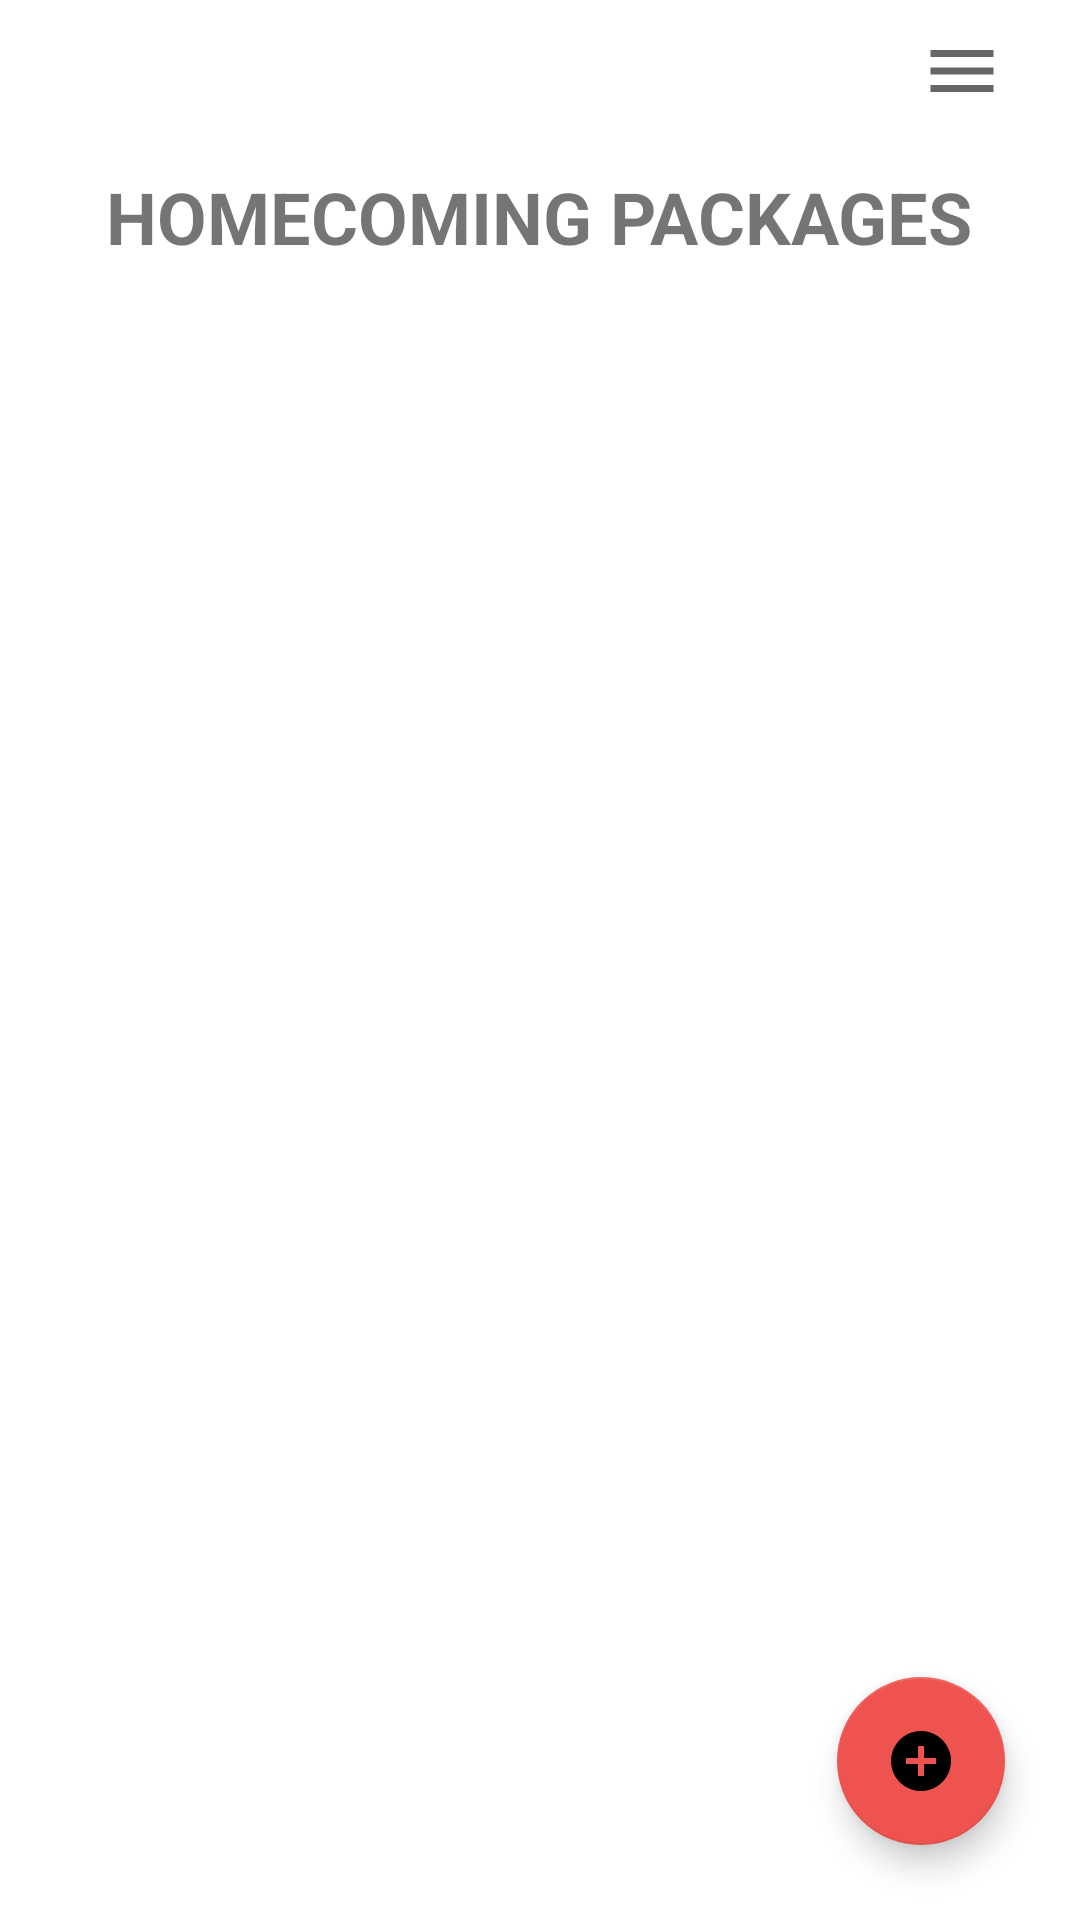

Point at icon controls on the screen. Image size 1080x1920, points as point (x, y).
addpk: point (921, 1761)
menu: point (962, 71)
